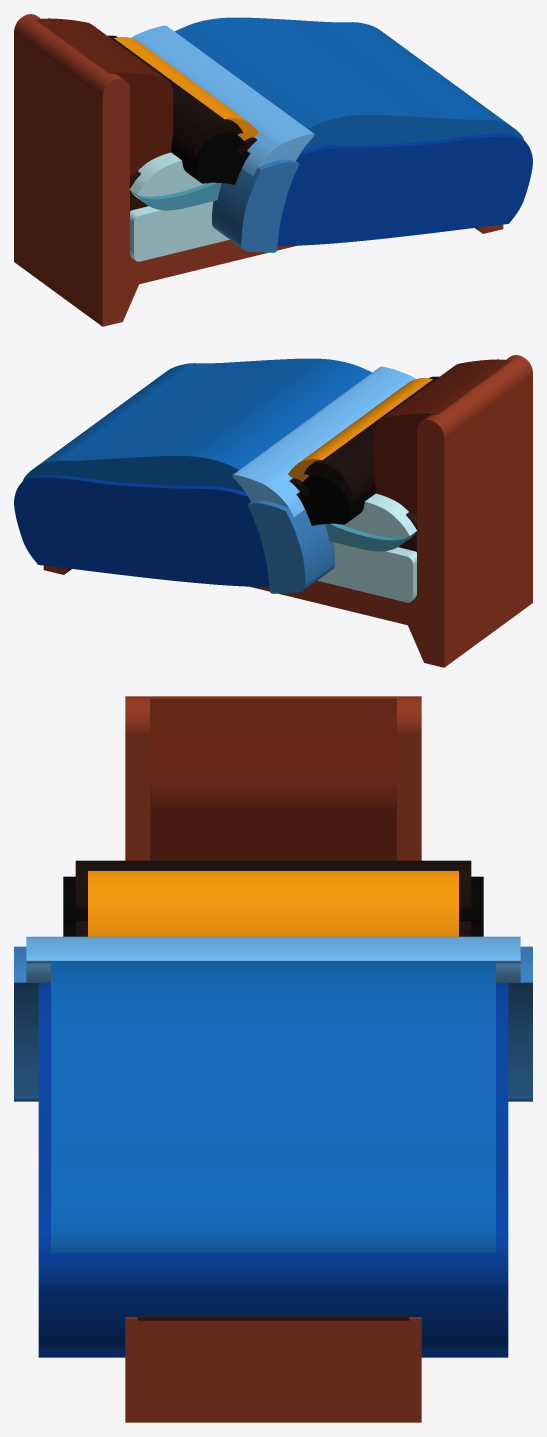
The picture shows the model from 3 angles, top to bottom: view 1: azimuth 30°, elevation 25°; view 2: azimuth 150°, elevation 25°; view 3: azimuth 270°, elevation 25°; orthographic projection. The views are drawn at different scales.
Parts seen in each view (by area): view 1: U+1F6CC_layer02_obj00, U+1F6CC_layer08_obj00, U+1F6CC_layer09_obj00, U+1F6CC_layer10_obj00, U+1F6CC_layer00_obj00, U+1F6CC_layer11_obj00, U+1F6CC_layer03_obj00, U+1F6CC_layer06_obj00, U+1F6CC_layer07_obj00, U+1F6CC_layer05_obj00, U+1F6CC_layer03_obj01, U+1F6CC_layer04_obj00; view 2: U+1F6CC_layer02_obj00, U+1F6CC_layer08_obj00, U+1F6CC_layer09_obj00, U+1F6CC_layer10_obj00, U+1F6CC_layer00_obj00, U+1F6CC_layer11_obj00, U+1F6CC_layer03_obj00, U+1F6CC_layer06_obj00, U+1F6CC_layer07_obj00, U+1F6CC_layer05_obj00, U+1F6CC_layer03_obj01, U+1F6CC_layer04_obj00; view 3: U+1F6CC_layer08_obj00, U+1F6CC_layer09_obj00, U+1F6CC_layer00_obj00, U+1F6CC_layer02_obj00, U+1F6CC_layer05_obj00, U+1F6CC_layer10_obj00, U+1F6CC_layer11_obj00, U+1F6CC_layer06_obj00, U+1F6CC_layer07_obj00, U+1F6CC_layer01_obj01.
Boxes of the visible parts, box(x1,y1,x2,y2) form: U+1F6CC_layer02_obj00: box(14, 14, 503, 326); U+1F6CC_layer08_obj00: box(175, 17, 524, 150); U+1F6CC_layer09_obj00: box(277, 134, 532, 245); U+1F6CC_layer10_obj00: box(131, 25, 314, 175); U+1F6CC_layer00_obj00: box(35, 18, 173, 176); U+1F6CC_layer11_obj00: box(212, 159, 299, 252); U+1F6CC_layer03_obj00: box(130, 201, 229, 261); U+1F6CC_layer06_obj00: box(107, 35, 257, 159); U+1F6CC_layer07_obj00: box(171, 132, 250, 184); U+1F6CC_layer05_obj00: box(114, 37, 258, 140); U+1F6CC_layer03_obj01: box(130, 152, 205, 201); U+1F6CC_layer04_obj00: box(130, 182, 221, 210); U+1F6CC_layer02_obj00: box(43, 355, 532, 667); U+1F6CC_layer08_obj00: box(22, 358, 371, 491); U+1F6CC_layer09_obj00: box(14, 475, 269, 586); U+1F6CC_layer10_obj00: box(232, 366, 415, 516); U+1F6CC_layer00_obj00: box(373, 359, 511, 517); U+1F6CC_layer11_obj00: box(247, 500, 334, 593); U+1F6CC_layer03_obj00: box(317, 542, 416, 602); U+1F6CC_layer06_obj00: box(289, 376, 439, 500); U+1F6CC_layer07_obj00: box(296, 473, 375, 525); U+1F6CC_layer05_obj00: box(288, 378, 432, 481); U+1F6CC_layer03_obj01: box(341, 493, 416, 542); U+1F6CC_layer04_obj00: box(325, 523, 416, 551); U+1F6CC_layer08_obj00: box(51, 961, 495, 1252); U+1F6CC_layer09_obj00: box(38, 982, 508, 1357); U+1F6CC_layer00_obj00: box(150, 698, 396, 860); U+1F6CC_layer02_obj00: box(125, 696, 421, 1422); U+1F6CC_layer05_obj00: box(88, 871, 458, 936); U+1F6CC_layer10_obj00: box(26, 936, 520, 982); U+1F6CC_layer11_obj00: box(14, 946, 532, 1101); U+1F6CC_layer06_obj00: box(75, 860, 471, 936); U+1F6CC_layer07_obj00: box(63, 876, 483, 936); U+1F6CC_layer01_obj01: box(137, 1316, 409, 1320).
Size of the model in its own units: 0.316 by 0.1823 by 0.21.
